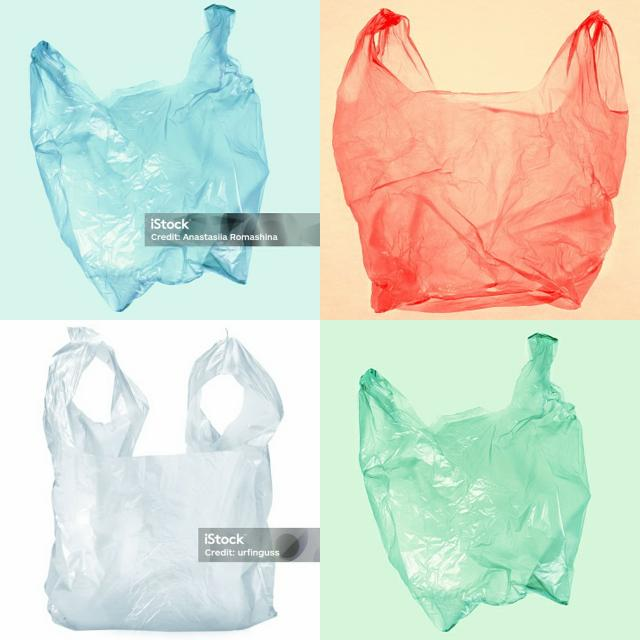Single-layer Plastic: (332, 9, 628, 312), (31, 5, 269, 311), (44, 328, 284, 631), (360, 334, 590, 631)
